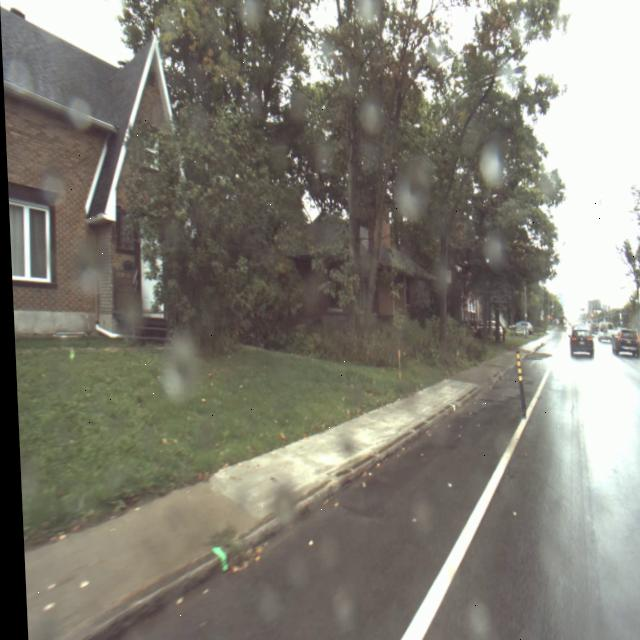car: (607, 328, 637, 357), (566, 328, 591, 358), (593, 322, 612, 343), (506, 321, 530, 336)
